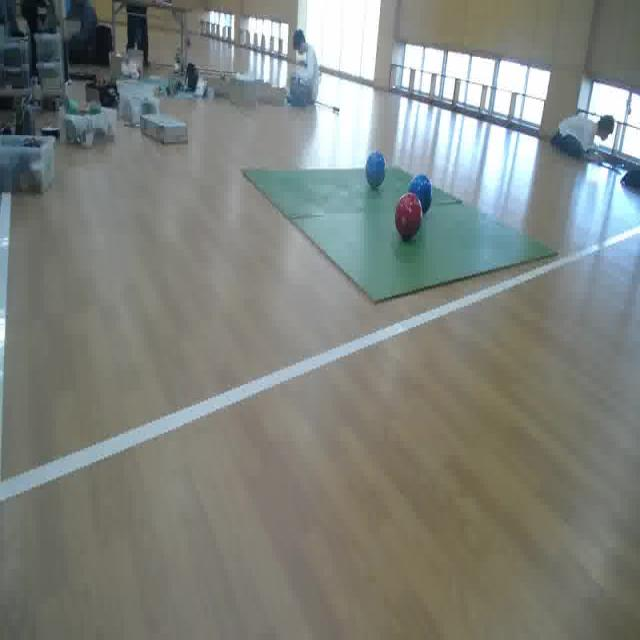blue_ball: (406, 168, 434, 219), (363, 150, 389, 194)
red_ball: (392, 189, 422, 243)
